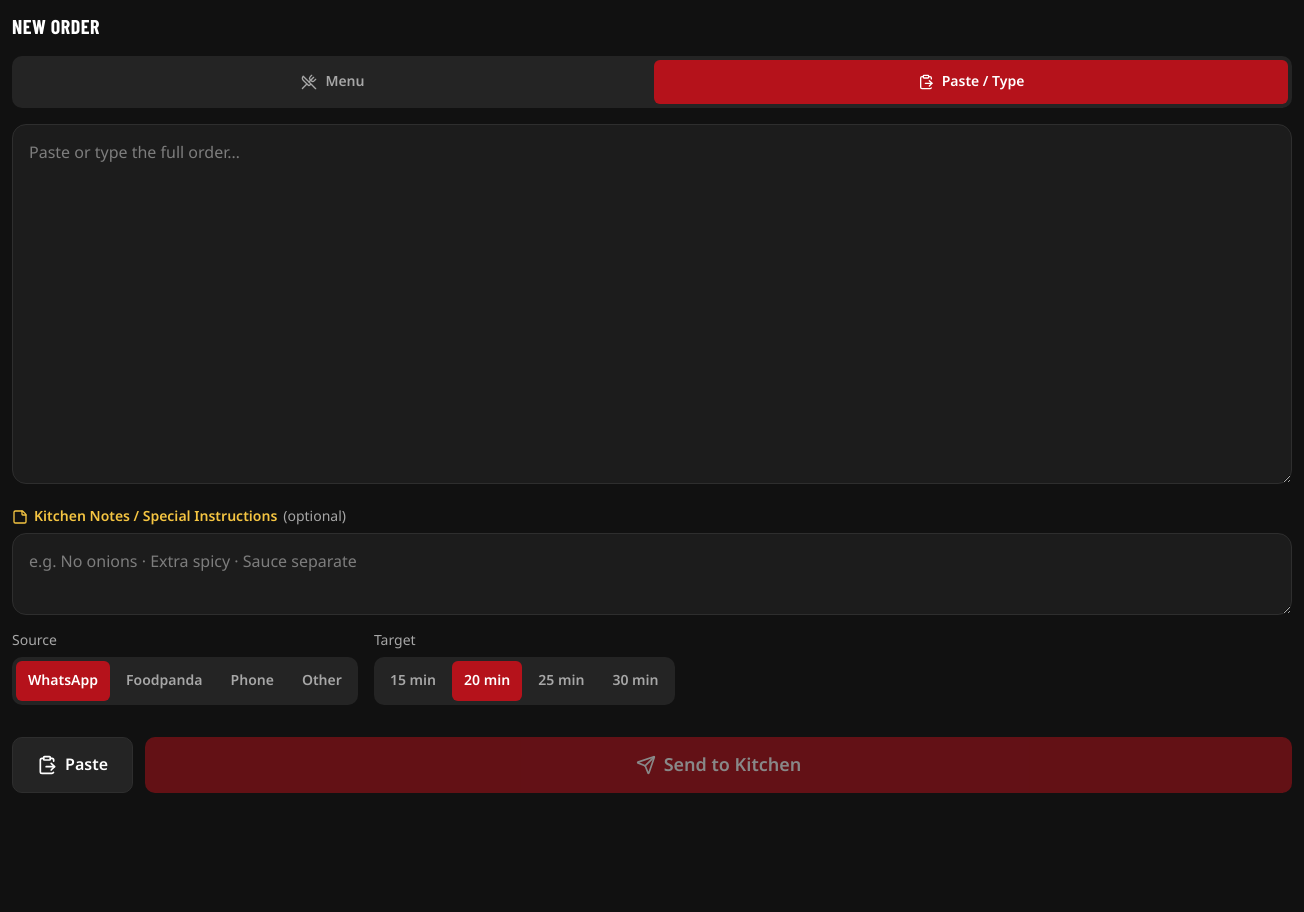
Test: OrderComposer (Q-02 paste → review → send) › the owner reviews, edits and then sends the edited text
Click the button "Paste". click: (72, 765)
box: top-left (12, 737), bottom-right (133, 793)
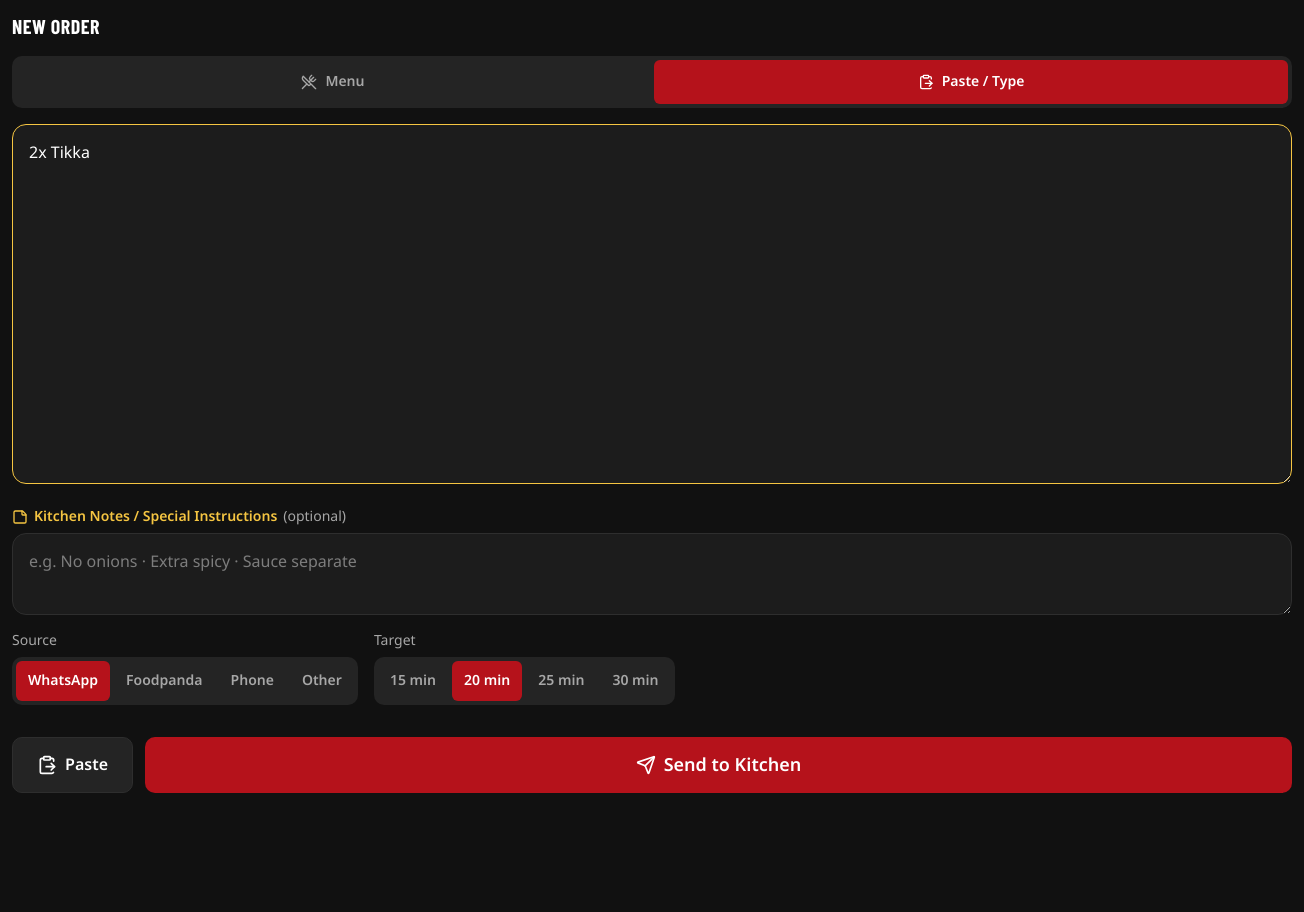
Type " (no onion)" into the text box named "Order text". click: (652, 304)
box: top-left (12, 124), bottom-right (1292, 484)
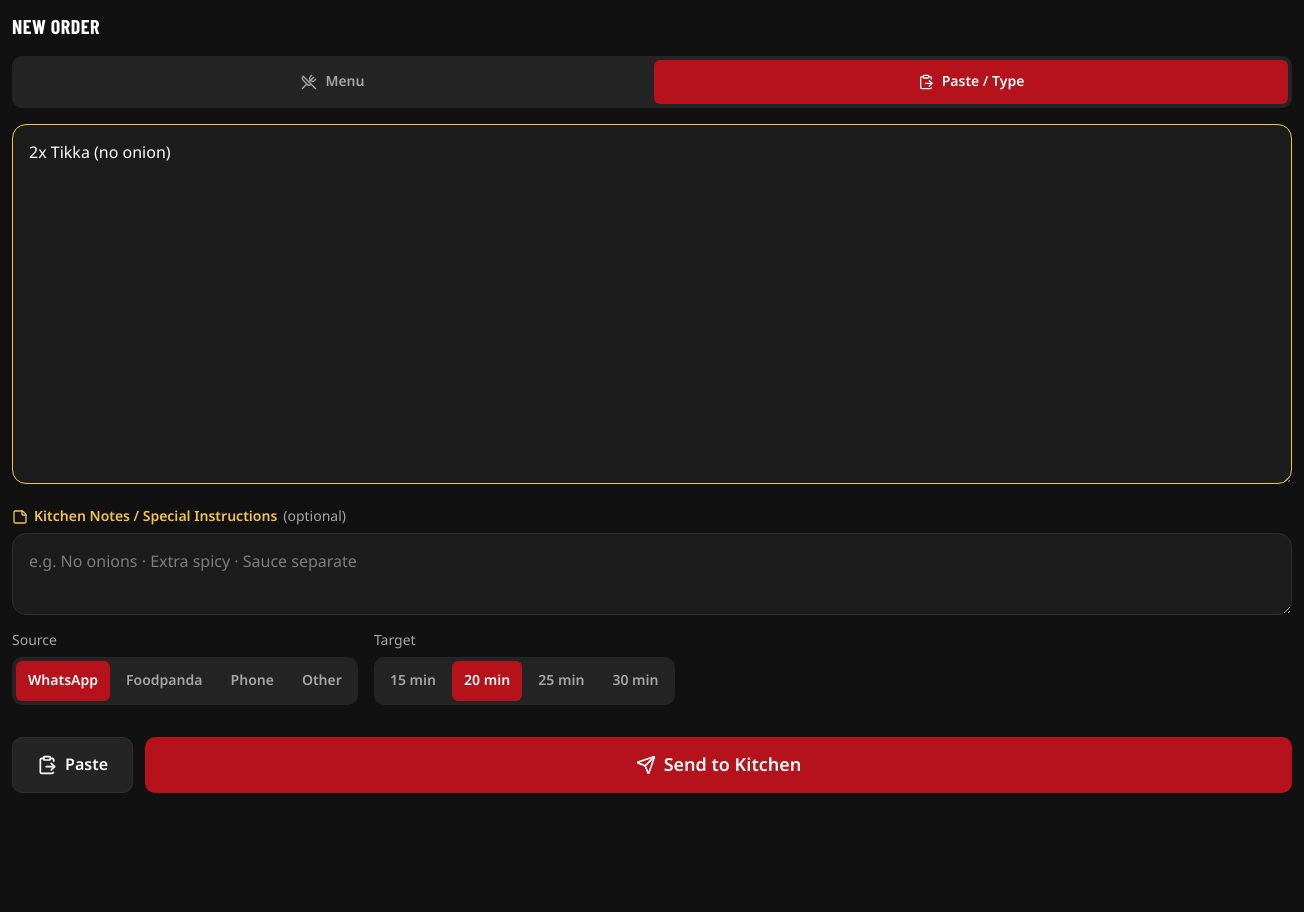
Click the button "Send to Kitchen". click: (718, 765)
box: top-left (145, 737), bottom-right (1292, 793)
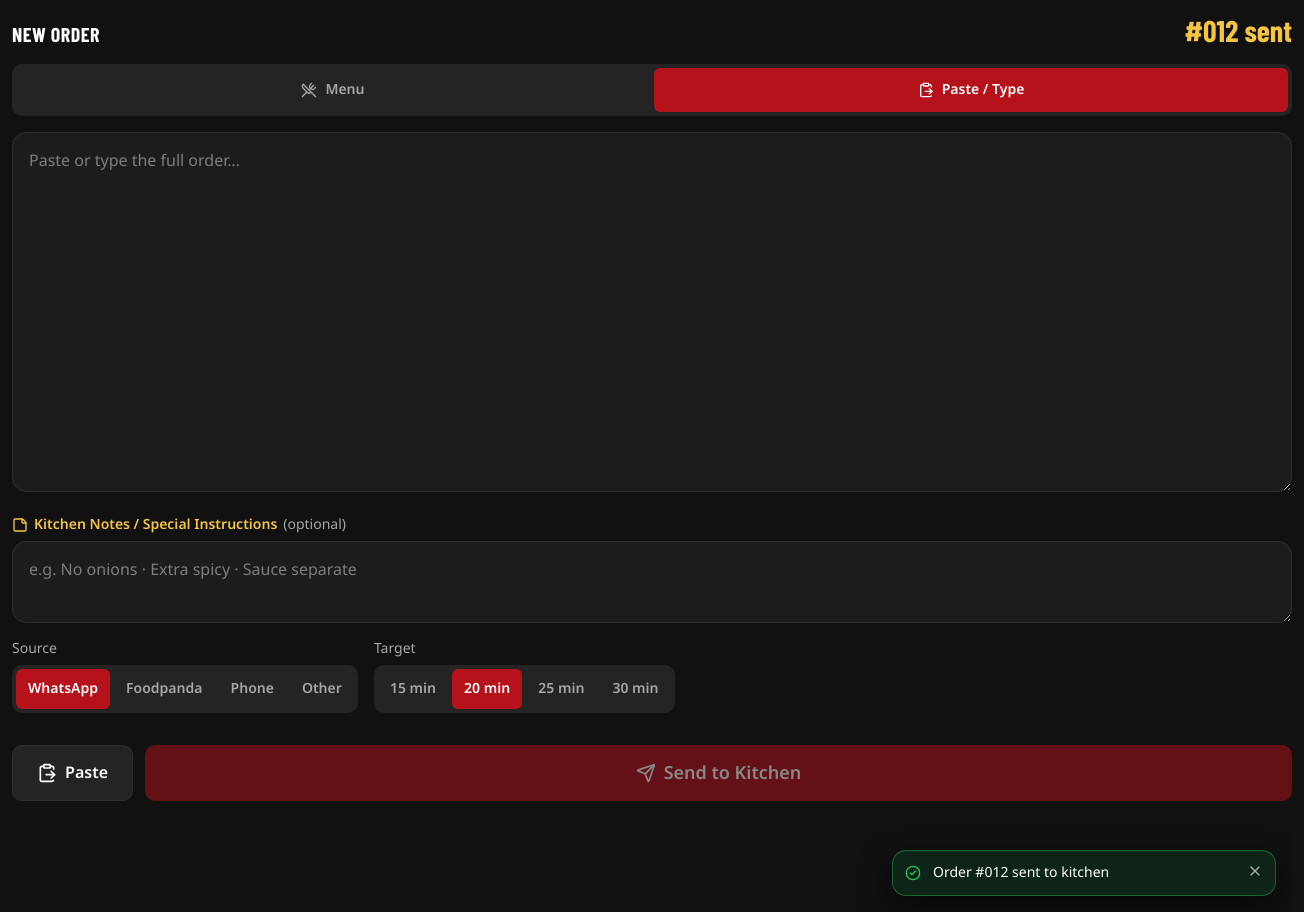
Check: the text "#012 sent" is shown, box top-left (1184, 12), bottom-right (1292, 48)
Check: the text box named "Order text" is empty, box top-left (12, 132), bottom-right (1292, 492)
